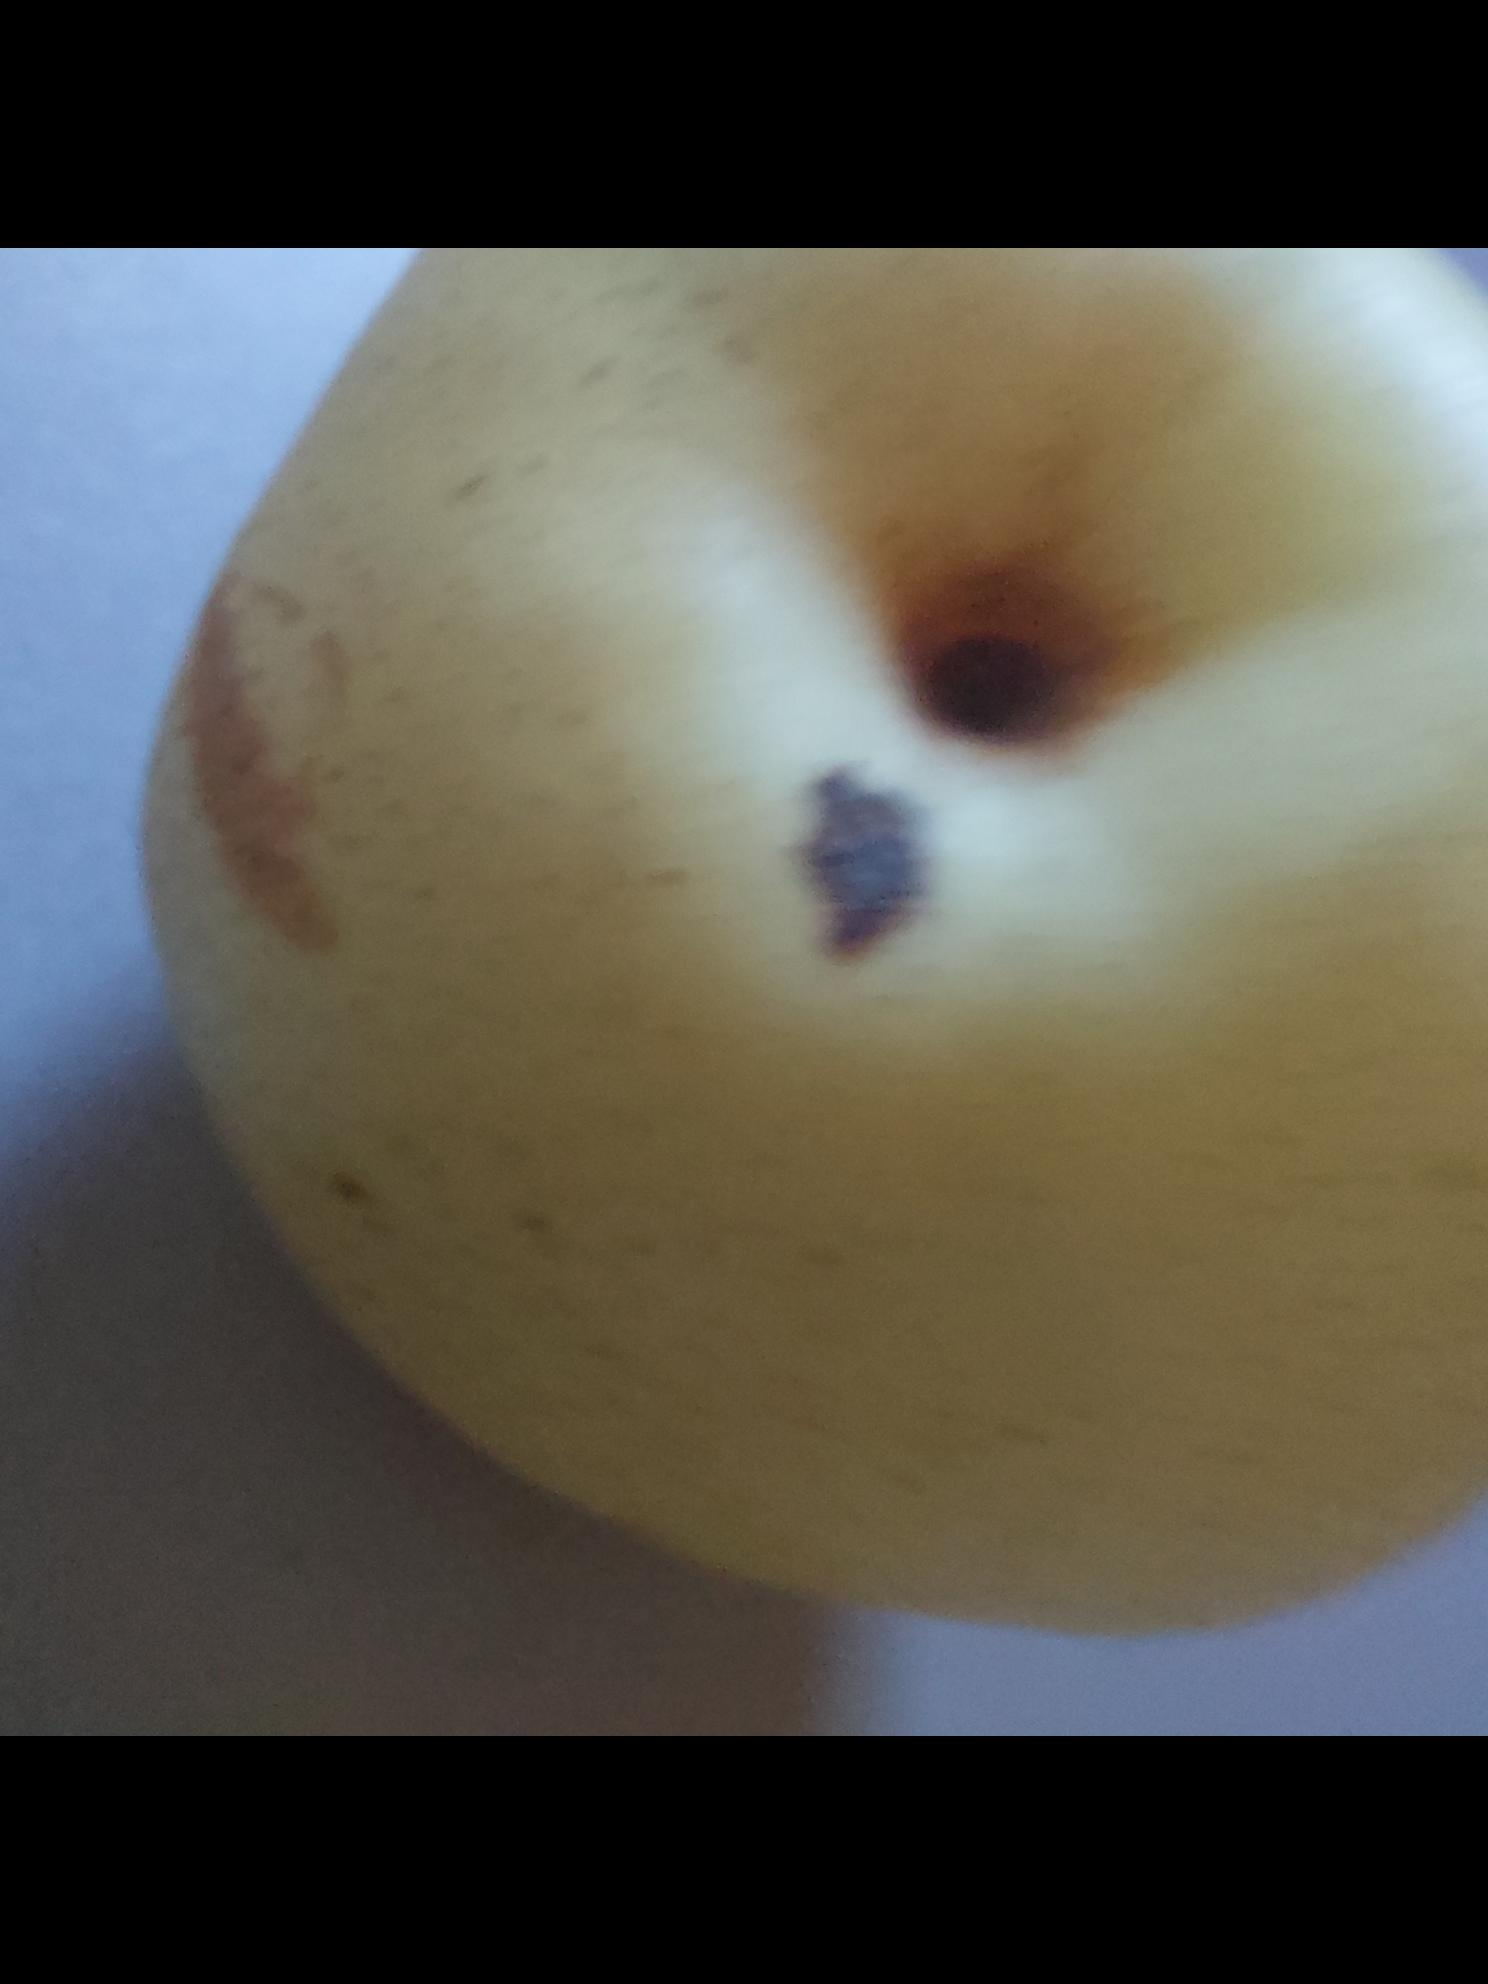Good Pear: (114, 248, 1488, 1662)
